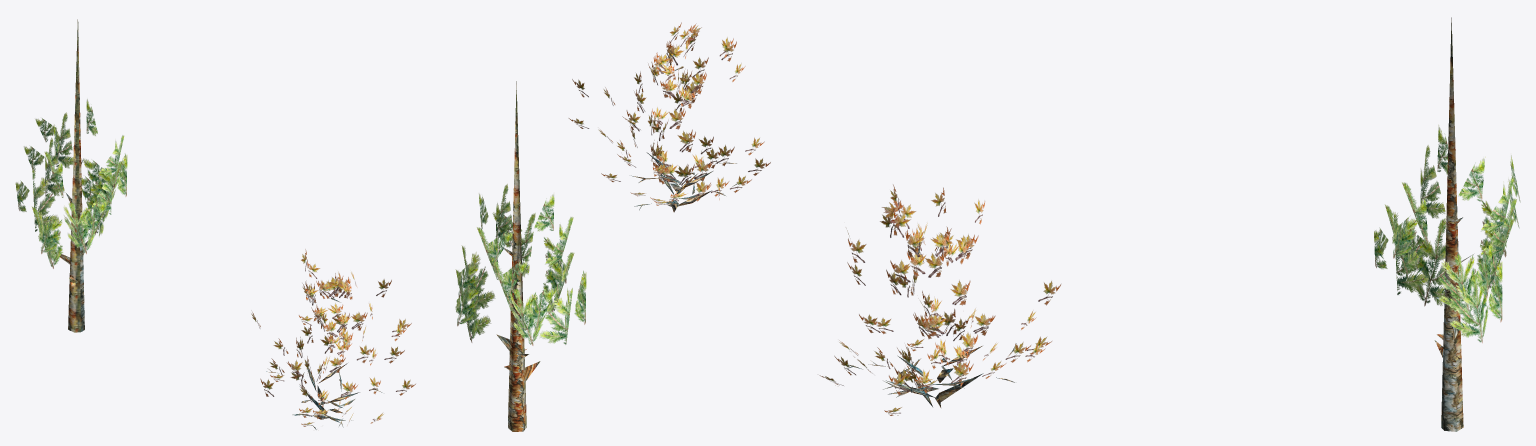
Rendered from tree-watercolor-pack.glb.
3 views of the same model, side by side, from view 1: azimuth 30°, elevation 25°; view 2: azimuth 150°, elevation 25°; view 3: azimuth 270°, elevation 25° (orthographic). The views are drawn at different scales.
Visible parts, largest first — view 1: WatercolorSpruce1_MZRb, SM_WatercolorMaple2_MZRb, WatercolorSpruce1_MZRa, SM_WatercolorMaple2_MZRa; view 2: WatercolorSpruce1_MZRb, SM_WatercolorMaple2_MZRb, WatercolorSpruce1_MZRa, SM_WatercolorMaple2_MZRa; view 3: WatercolorSpruce1_MZRb, SM_WatercolorMaple2_MZRb, WatercolorSpruce1_MZRa, SM_WatercolorMaple2_MZRa.
Boxes of the visible parts, x1,y1,x2,y2 form: WatercolorSpruce1_MZRb: (15, 99, 127, 268); SM_WatercolorMaple2_MZRb: (251, 249, 415, 426); WatercolorSpruce1_MZRa: (55, 19, 89, 332); SM_WatercolorMaple2_MZRa: (266, 297, 406, 429); WatercolorSpruce1_MZRb: (455, 184, 586, 345); SM_WatercolorMaple2_MZRb: (568, 22, 770, 205); WatercolorSpruce1_MZRa: (496, 81, 540, 431); SM_WatercolorMaple2_MZRa: (631, 66, 757, 212); WatercolorSpruce1_MZRb: (1374, 125, 1520, 343); SM_WatercolorMaple2_MZRb: (819, 184, 1060, 415); WatercolorSpruce1_MZRa: (1433, 17, 1474, 431); SM_WatercolorMaple2_MZRa: (835, 242, 1016, 415).
Bounding box in the file's own units: 4.7 × 7.46 × 11.66.
4 materials, 4 textured.
